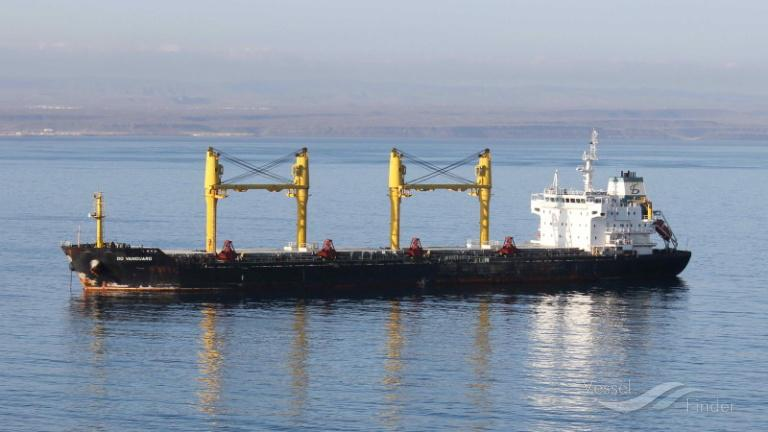OCR: (108, 252, 155, 263)
